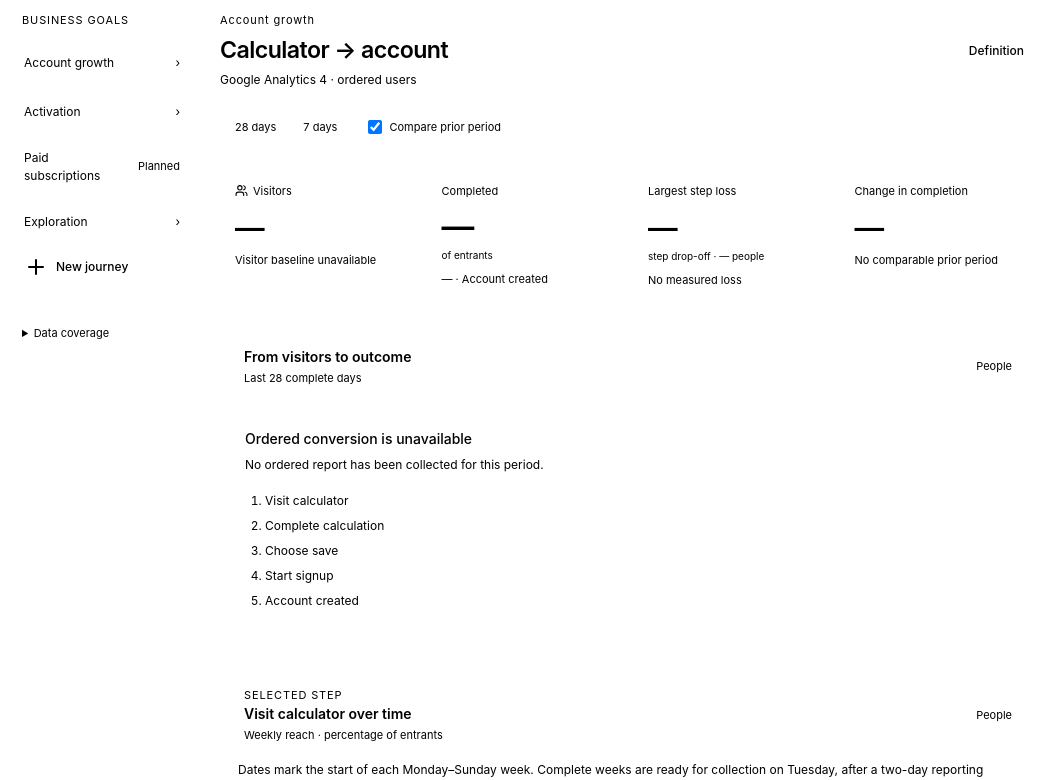
Scenario: JourneyMonitor › does not fabricate counts for missing, sampled, planned or session reports
Expected: the text "No ordered report has been collected for this period." is shown, 245,457 -> 544,472
Click the button "Paid subscriptions Planned" at [102, 166], box 12,138 -> 192,194
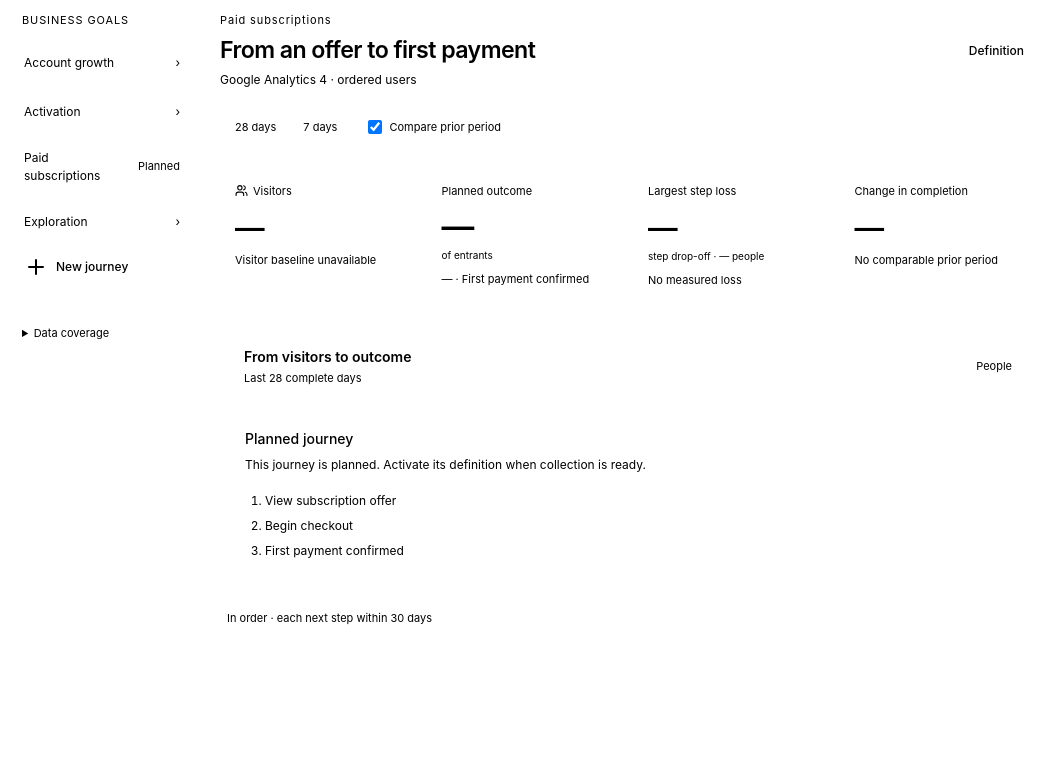
Expected: the text "Planned journey" is shown, 245,430 -> 353,447
Click the button "Exploration ›" at [102, 222], box 12,200 -> 192,244
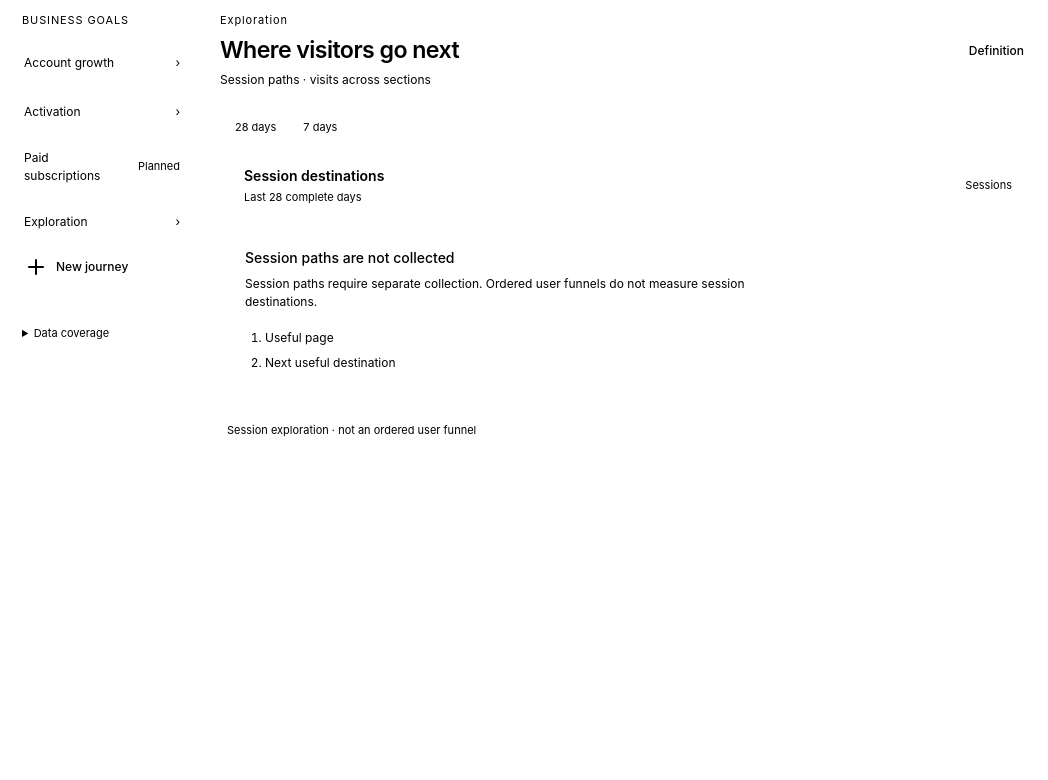
Expected: the text "Session paths are not collected" is shown, 245,249 -> 454,266
